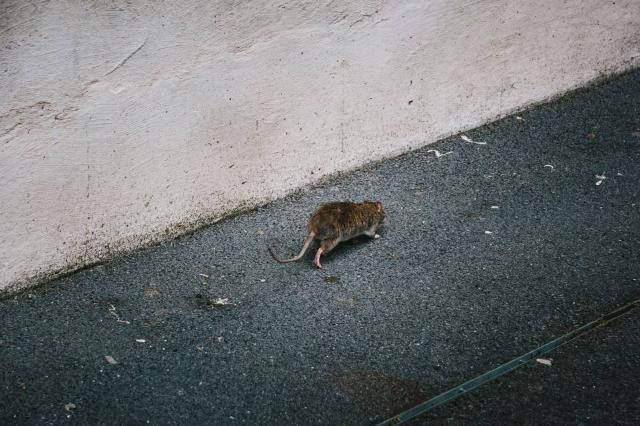rat: (261, 195, 399, 274)
